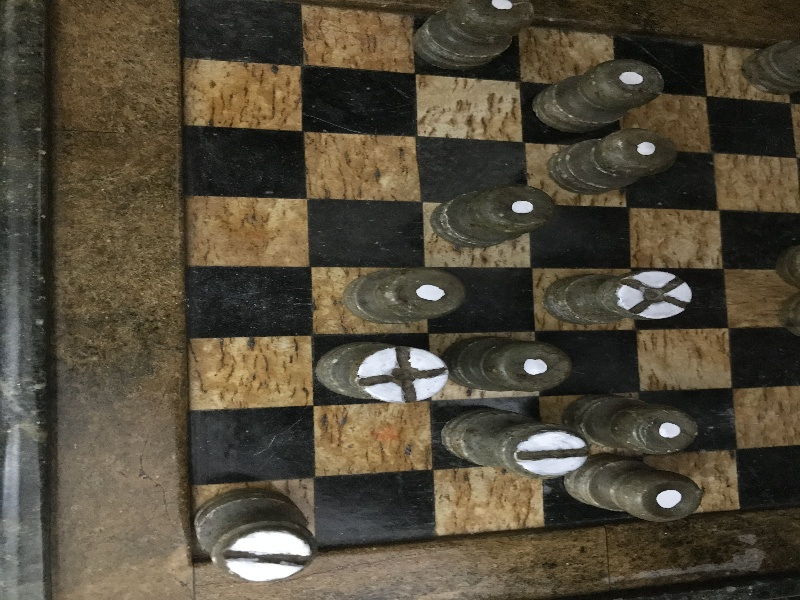WhiteBishop: (314, 341, 448, 403), (543, 270, 692, 324)
WhitePawn: (533, 61, 664, 131), (564, 455, 700, 522), (415, 1, 535, 75), (547, 129, 676, 196), (431, 185, 552, 248), (565, 396, 696, 453), (443, 335, 572, 392), (345, 272, 464, 322)
WhiteRook: (194, 489, 315, 582), (441, 409, 589, 478)
